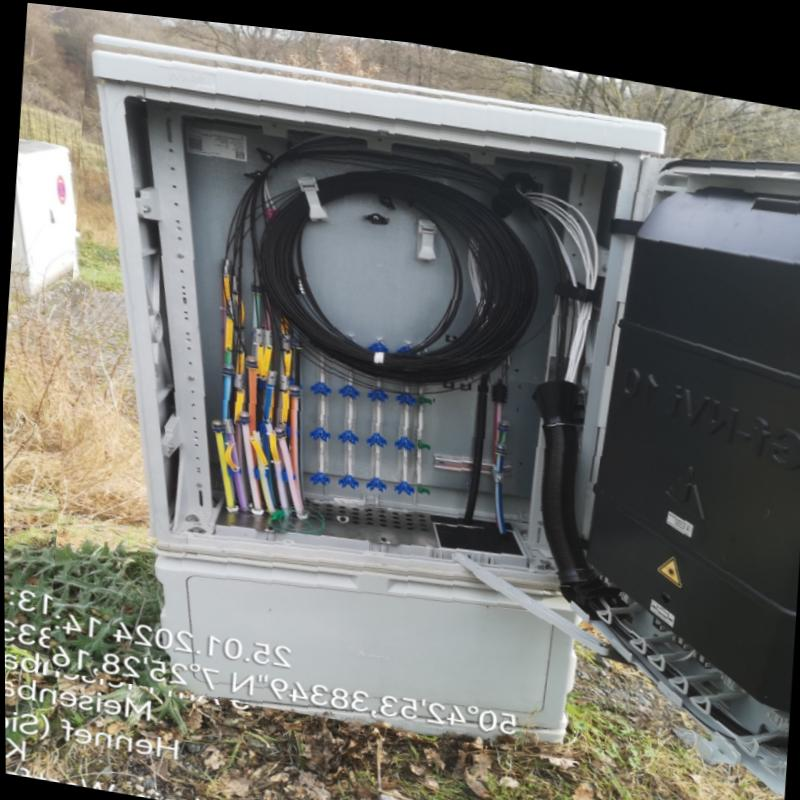NT-Gehause: (87, 41, 800, 779)
